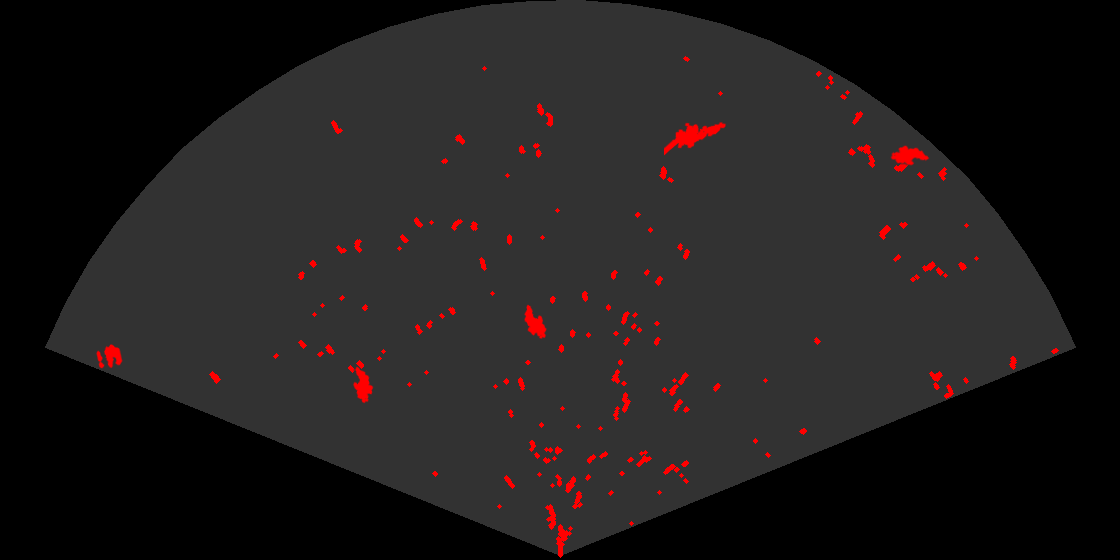AUV: (889, 144, 931, 167), (523, 303, 548, 341), (352, 365, 375, 405)
ball: (95, 343, 124, 370)
frogman: (664, 120, 728, 157)
